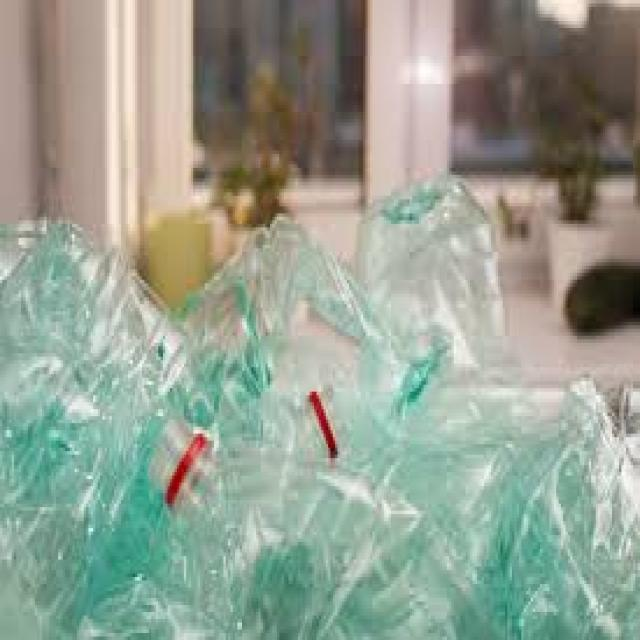Anorganik: (0, 209, 195, 636), (147, 412, 500, 636), (65, 378, 342, 636), (466, 367, 638, 637), (175, 210, 391, 392), (352, 175, 508, 367), (352, 311, 542, 465)
